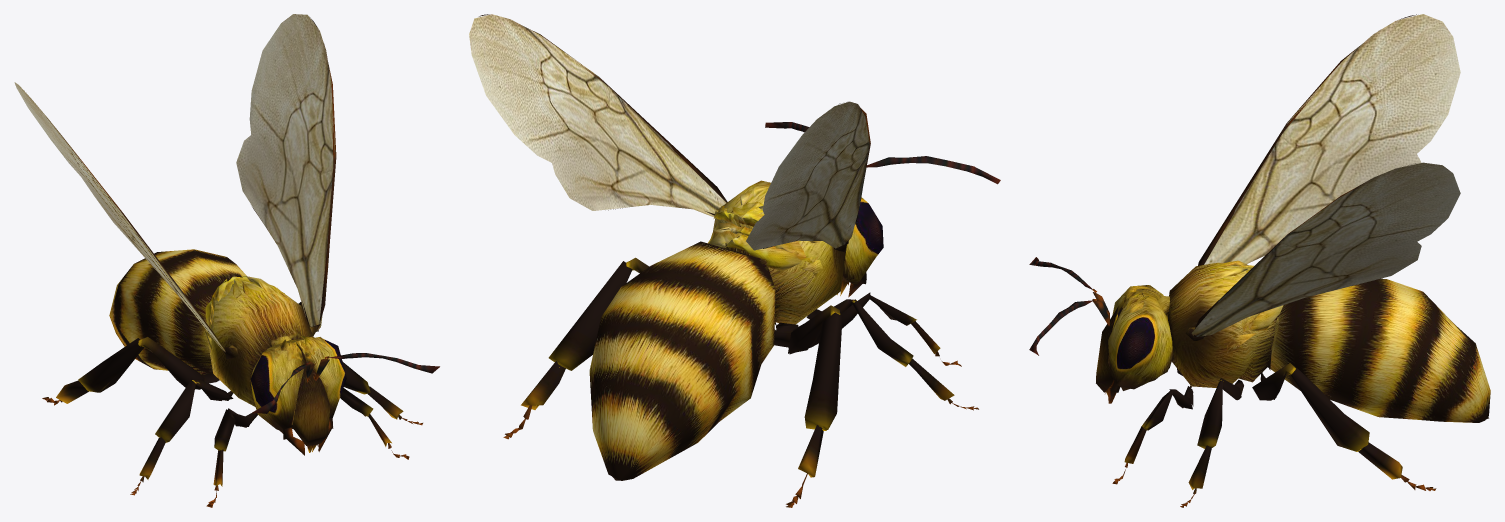
Rendered from bee.glb.
3 renders of one model, left to right at view 1: azimuth 30°, elevation 25°; view 2: azimuth 150°, elevation 25°; view 3: azimuth 270°, elevation 25°, orthographic. The views are drawn at different scales.
Parts seen in each view (by area): view 1: Object_116; view 2: Object_116; view 3: Object_116.
Part boxes in pixels (<box>): Object_116: <box>14,14,439,507</box>; Object_116: <box>469,14,1000,507</box>; Object_116: <box>1029,14,1490,507</box>.
Size of the model in its own units: 14.61 by 15.51 by 18.81.
1 material, 1 textured.
